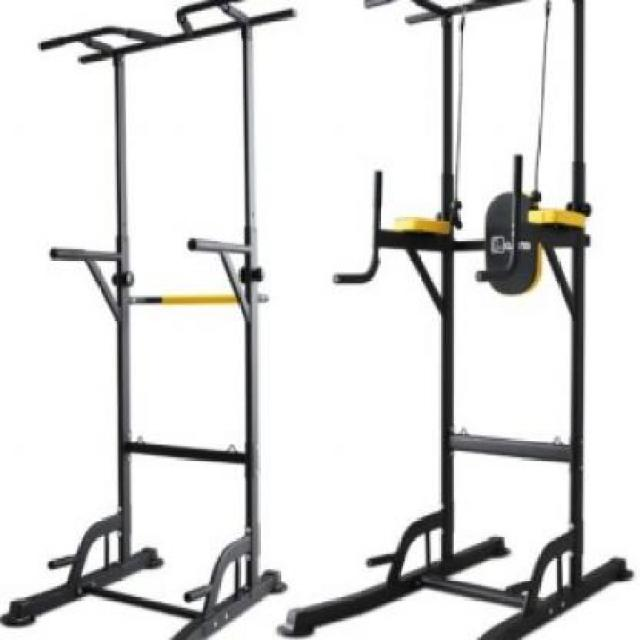chinning dipping: (0, 0, 297, 640)
